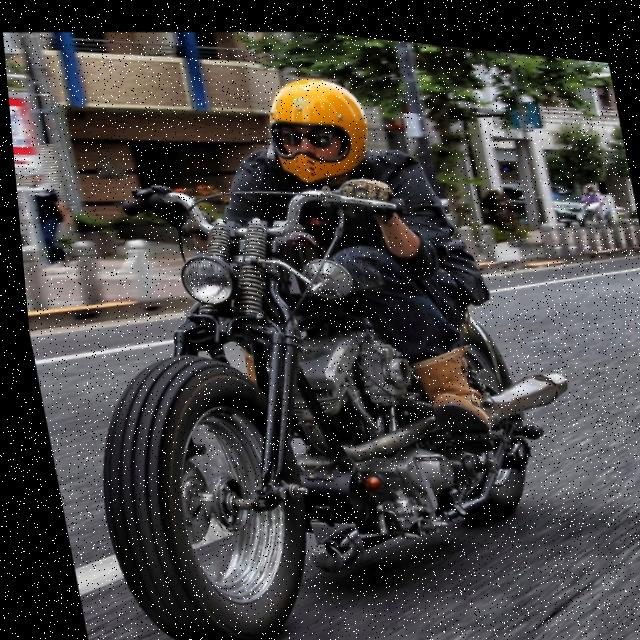helmet: (251, 60, 380, 190)
